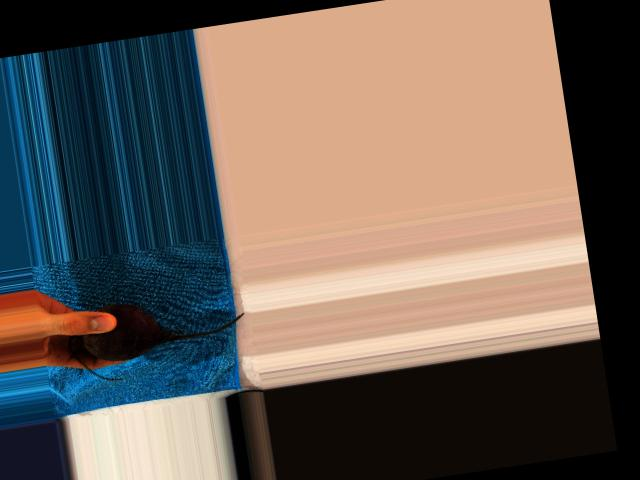beet: (64, 284, 251, 385)
